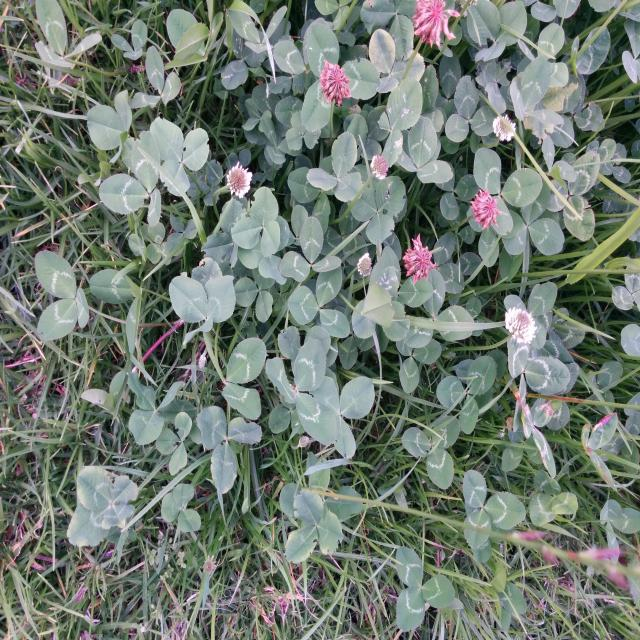Four Leaf Clover: (67, 466, 138, 547)
